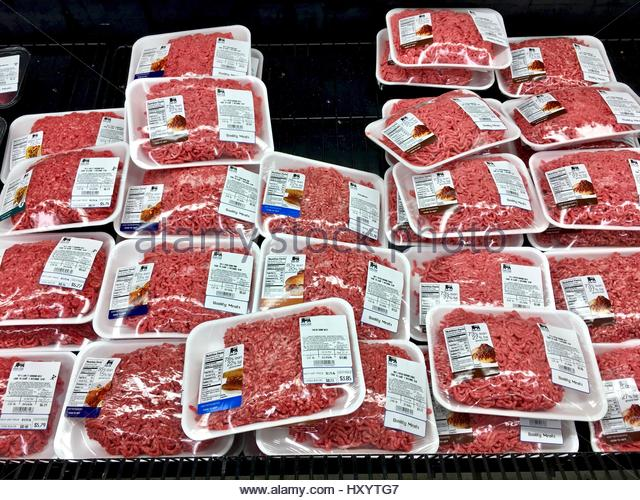ground_beef: (371, 17, 618, 456), (122, 30, 266, 455), (223, 168, 426, 465)
